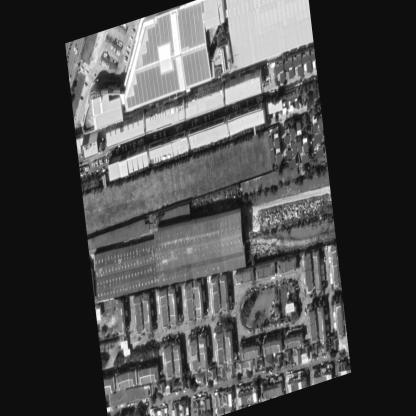solar-pv-panel: (126, 58, 180, 108), (141, 14, 174, 67), (176, 1, 205, 50), (182, 48, 210, 87)
